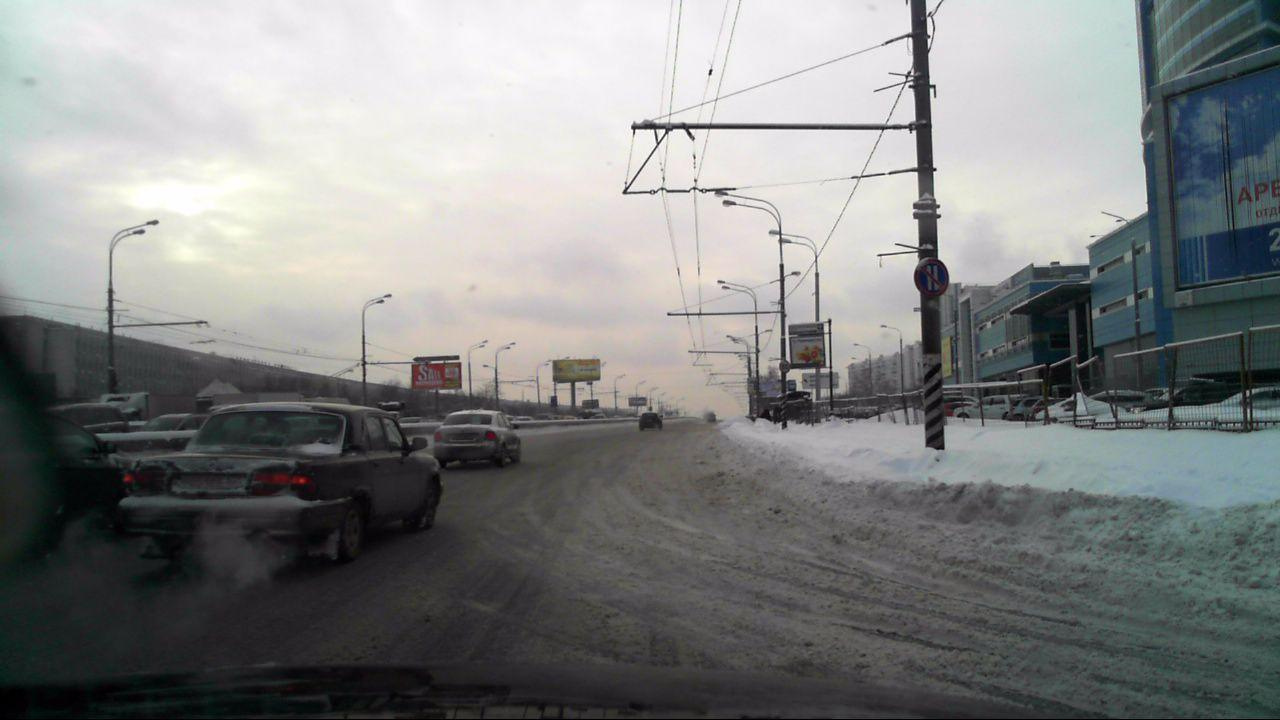3_30: (911, 256, 954, 299)
